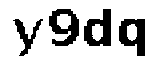9: (46, 6, 79, 48)
d: (84, 8, 115, 49)
q: (116, 14, 148, 60)
y: (8, 15, 43, 59)
